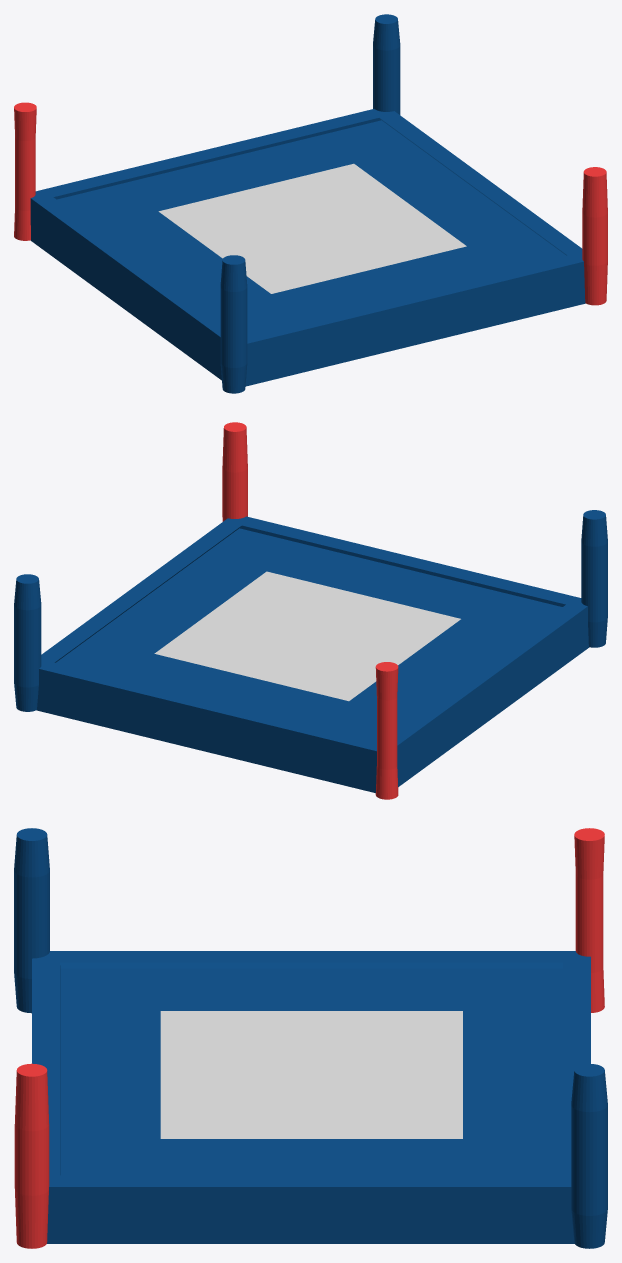
The model's file is ring.fbx.
3 views of the same model, one above another, from view 1: azimuth 30°, elevation 25°; view 2: azimuth 150°, elevation 25°; view 3: azimuth 270°, elevation 25° (orthographic). The views are drawn at different scales.
Parts seen in each view (by area): view 1: Cube; view 2: Cube; view 3: Cube.
Boxes of the visible parts, <box> form: Cube: <box>14,14,607,393</box>; Cube: <box>14,422,607,799</box>; Cube: <box>14,828,607,1248</box>.
Bounding box in the file's own units: 1898 × 610 × 1898.
